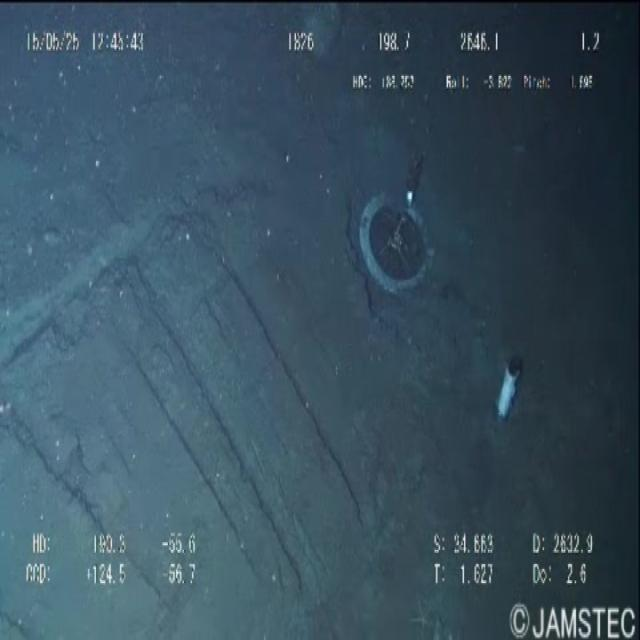Metal: (362, 146, 442, 306)
